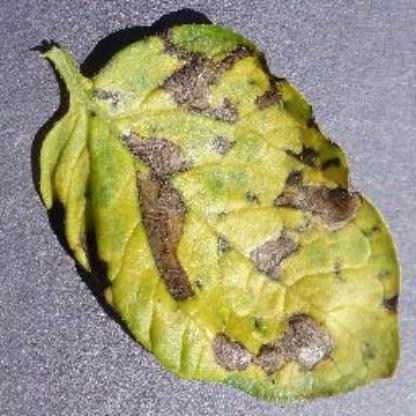Early-Blight: (23, 10, 416, 402)
